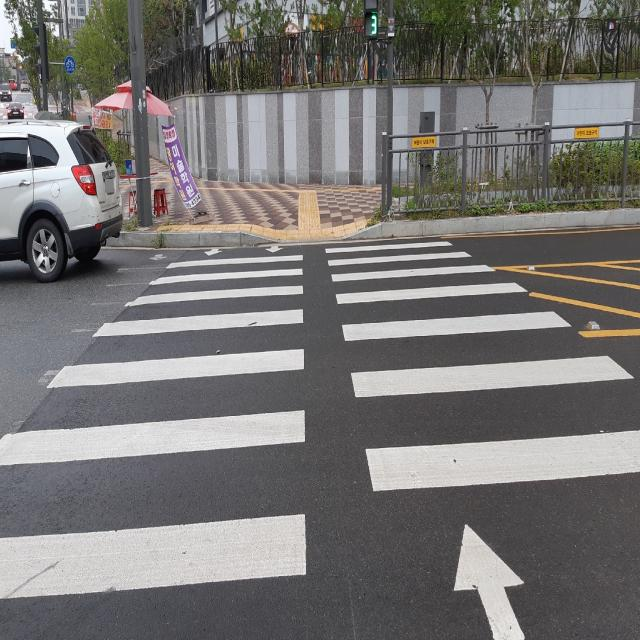초록불: (364, 0, 379, 35)
횡단보도: (0, 237, 640, 640)
